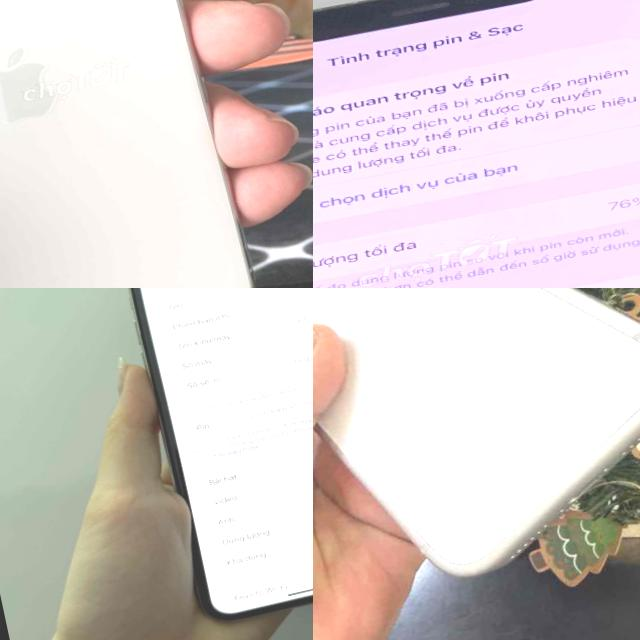gen_11: (0, 0, 279, 288)
gen_12_13: (313, 0, 640, 288)
gen_17: (313, 288, 640, 626)
gen_x_xs: (129, 288, 313, 619)
